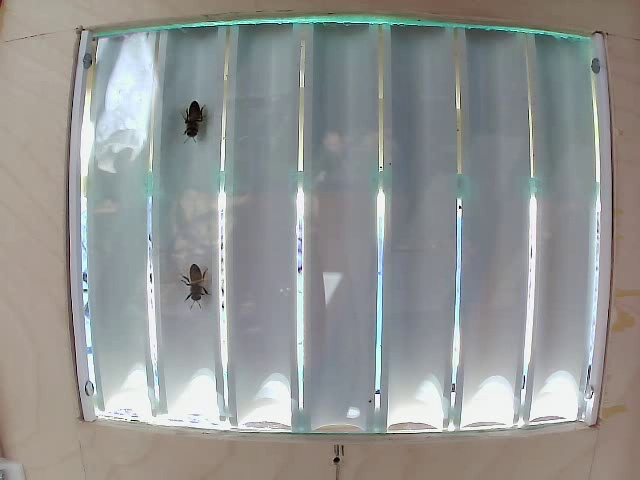bee: (164, 245, 211, 324), (168, 89, 217, 151)
